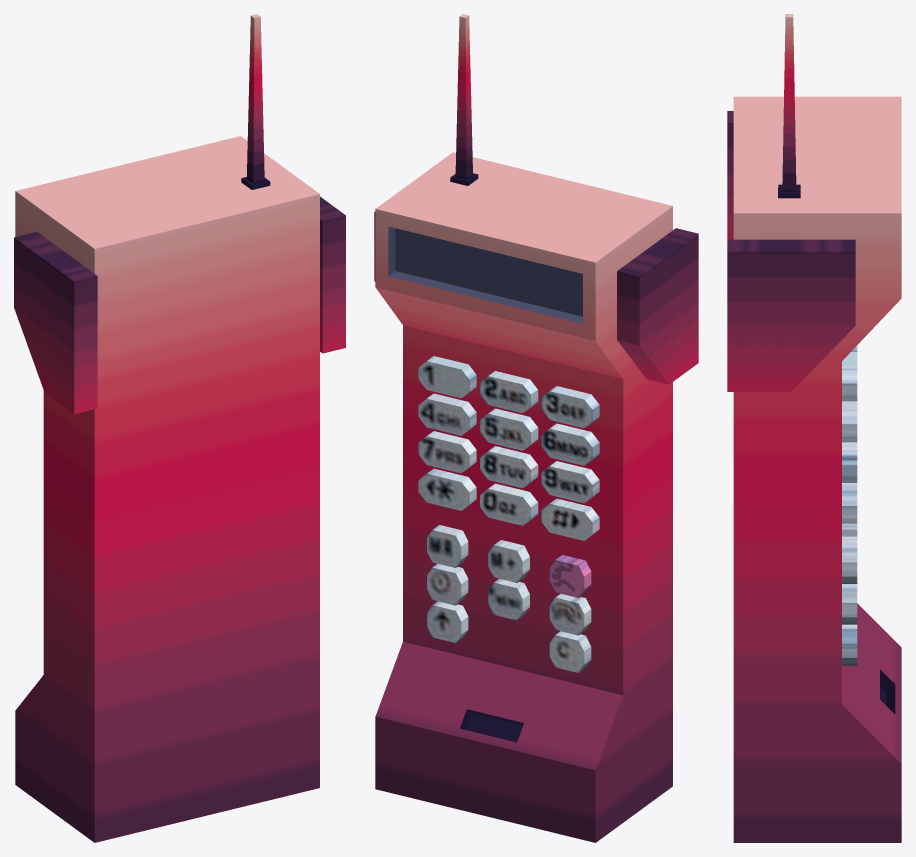
The model's file is Structure_Retro_CellPhone_Art.fbx.
The picture shows the model from 3 angles, left to right: view 1: azimuth 30°, elevation 25°; view 2: azimuth 150°, elevation 25°; view 3: azimuth 270°, elevation 25°; orthographic projection. The views are drawn at different scales.
Visible parts, largest first — view 1: Structure_Retro_CellPhone_Art; view 2: Structure_Retro_CellPhone_Art; view 3: Structure_Retro_CellPhone_Art.
Boxes of the visible parts, x1=… form: Structure_Retro_CellPhone_Art: x1=14, y1=14, x2=345, y2=842; Structure_Retro_CellPhone_Art: x1=374, y1=14, x2=698, y2=842; Structure_Retro_CellPhone_Art: x1=727, y1=14, x2=901, y2=842.
Size of the model in its own units: 1.05 by 2.82 by 0.5508.
